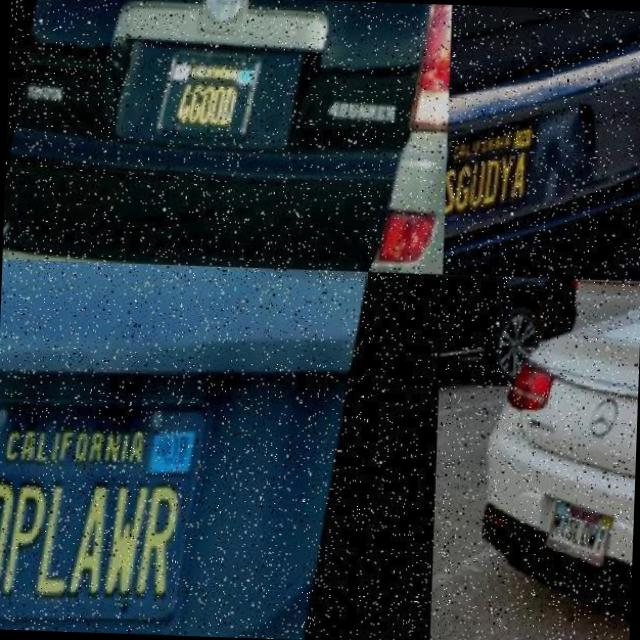LicensePlate: (0, 378, 225, 636), (443, 115, 552, 238), (165, 37, 266, 145), (548, 500, 622, 573)
